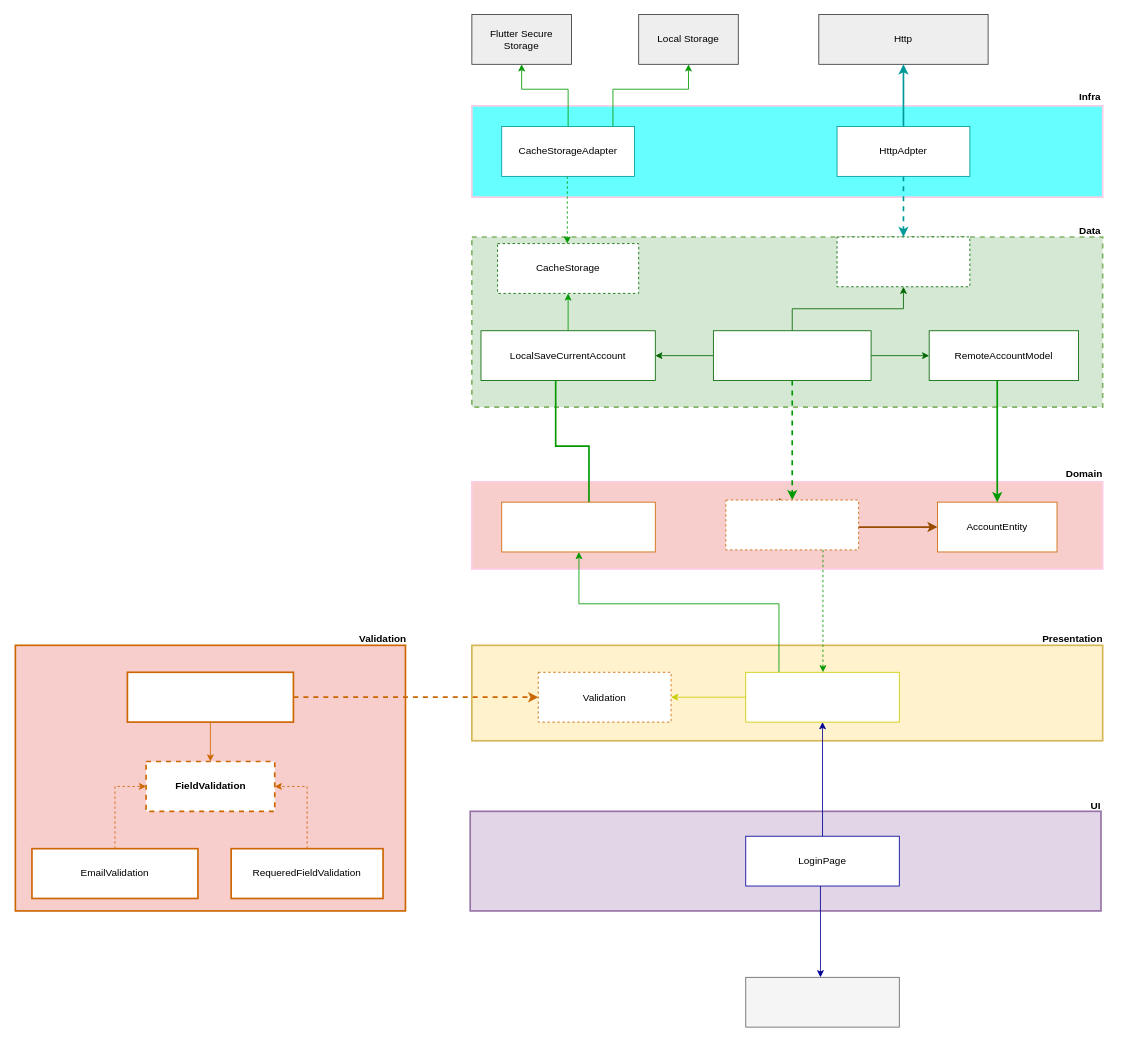
This 1135x1042 diagram has some shape labels left out. The centre of each missing label's shape, as x and y in pixels:
"Authentication" belongs at point (792, 524).
"Flutter" belongs at point (822, 1001).
"GetxLoginPresenter" belongs at point (822, 696).
"HttpClient" belongs at point (903, 261).
"RemoteAuthentication" belongs at point (792, 355).
"SaveCurrentAccount" belongs at point (578, 526).
"ValidationComposite" belongs at point (210, 697).
